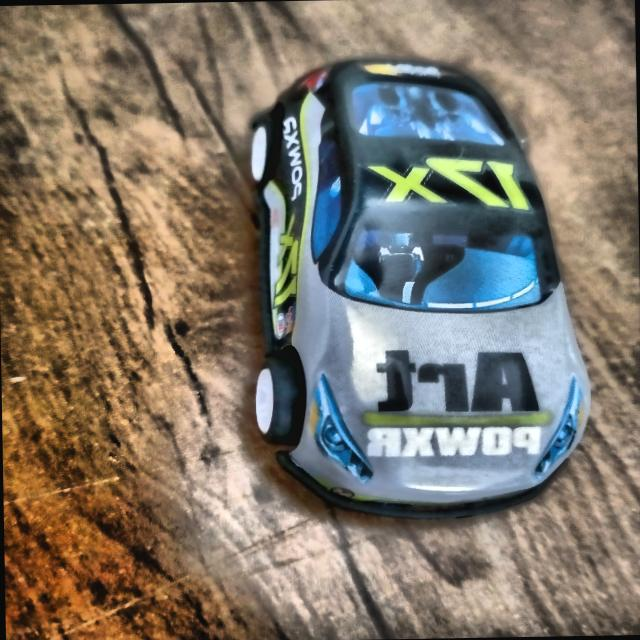Car: (223, 56, 582, 508)
